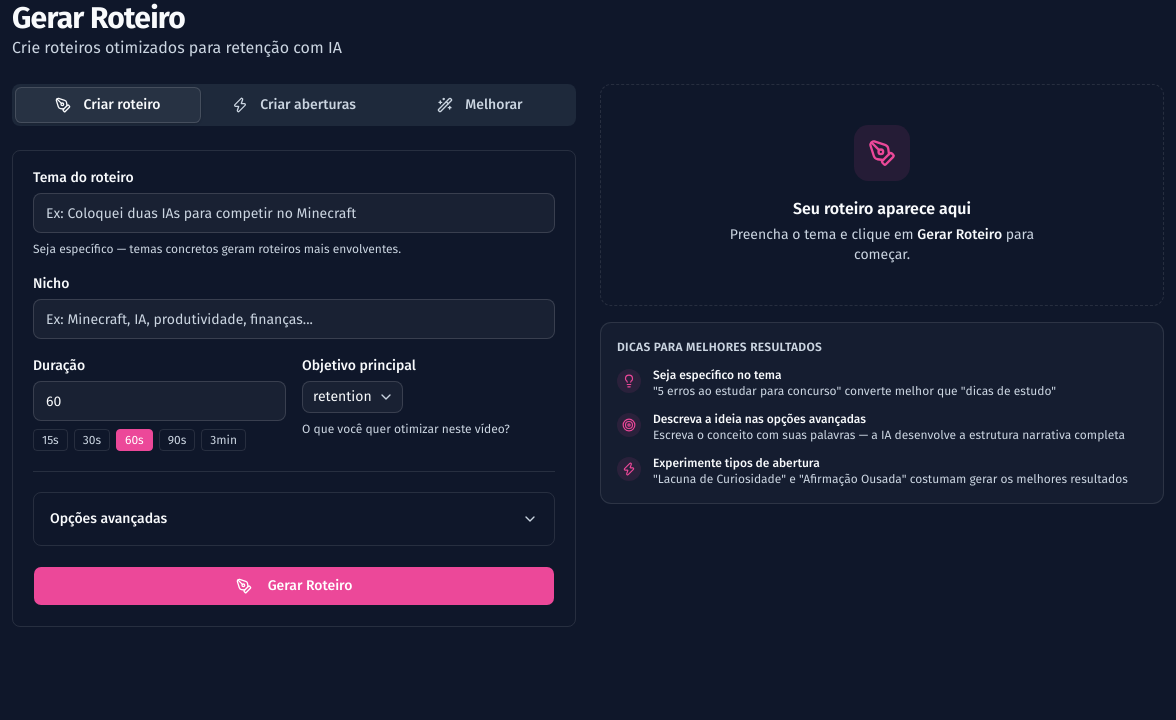
Test: Generate Page — resultado de geração › 12. ganchos de curiosidade aparecem nos detalhes
This screenshot has width=1176, height=720.
In the field labelled "Tema do roteiro": (294, 213) [33,193,555,233], type "Teste curiosidade"
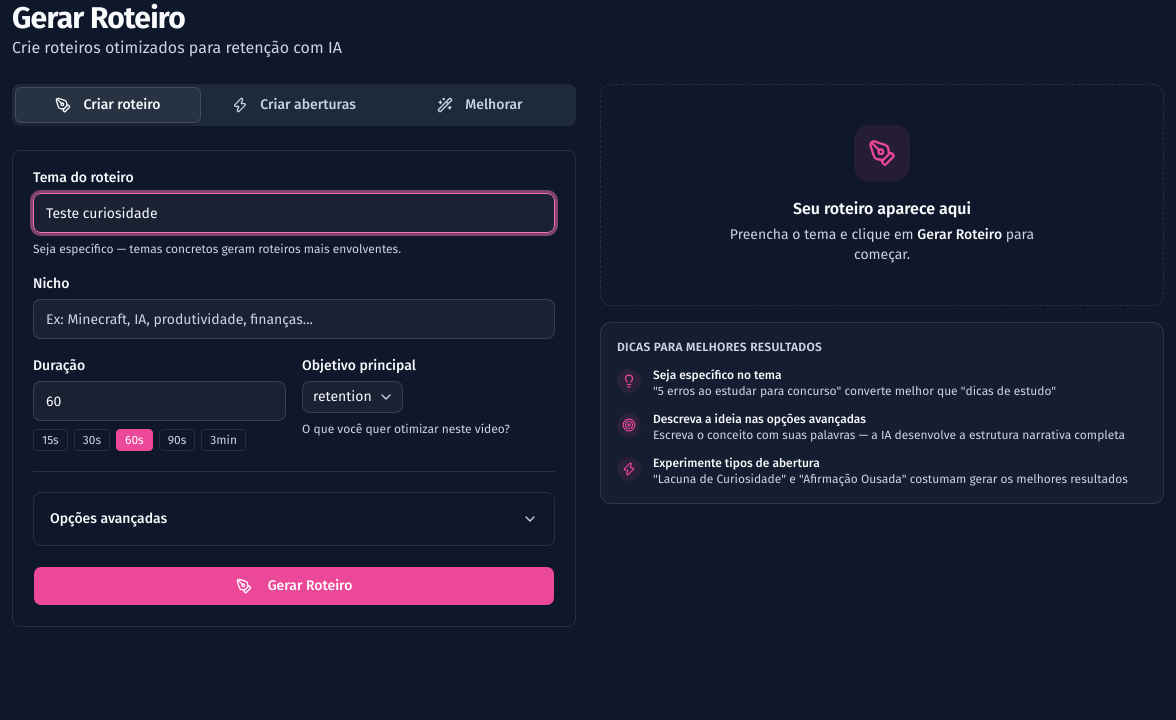
In the field labelled "Nicho": (294, 319) [33,299,555,339], type "Tech"
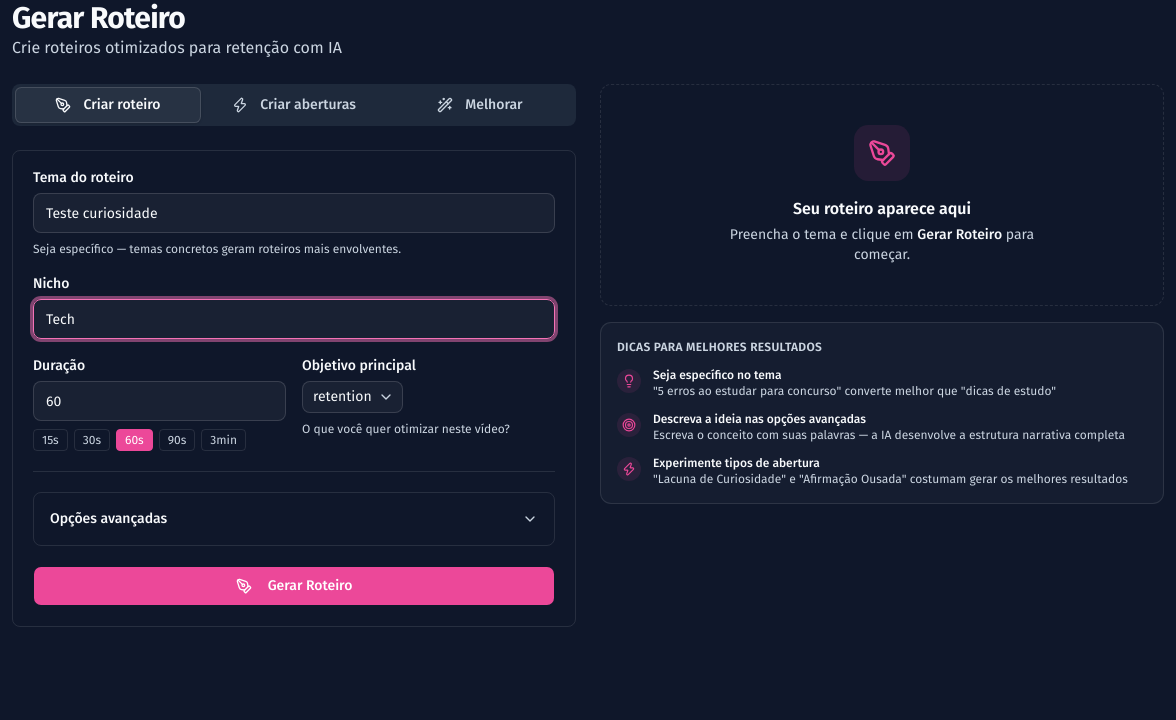
Click the button with test id "gen-submit-btn": (294, 586) [33,566,555,606]
(page scrolled)
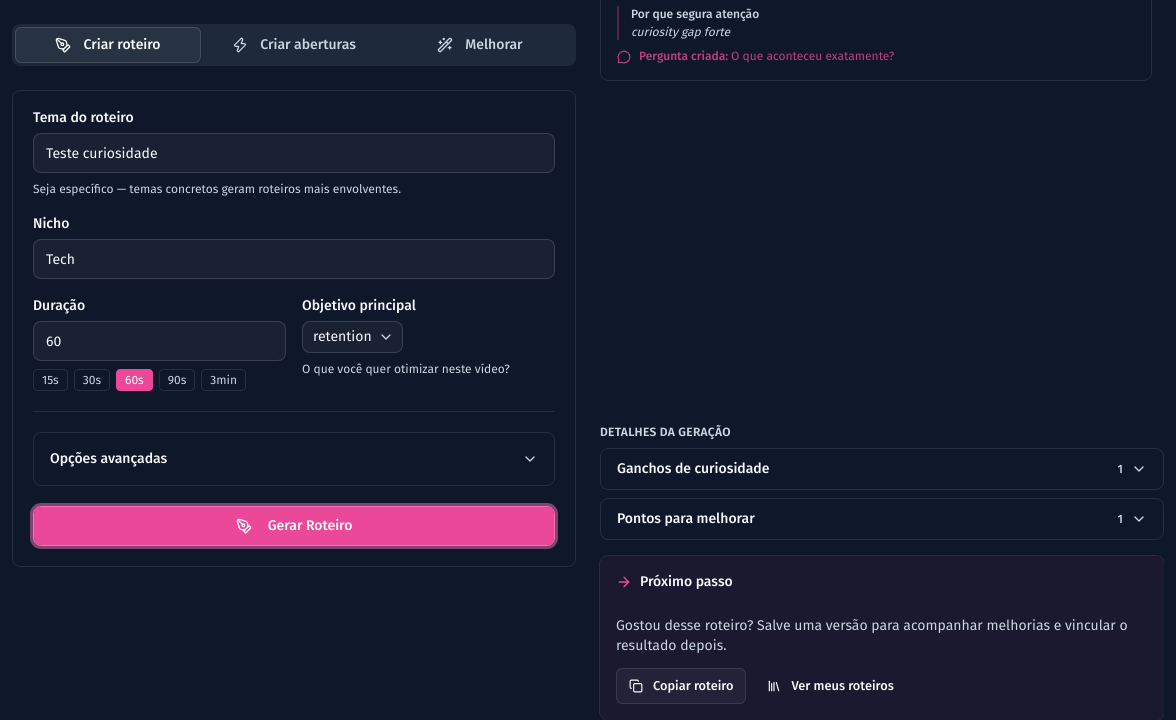
Check: the text "Detalhes da geração" is shown, box [600,425,731,439]
